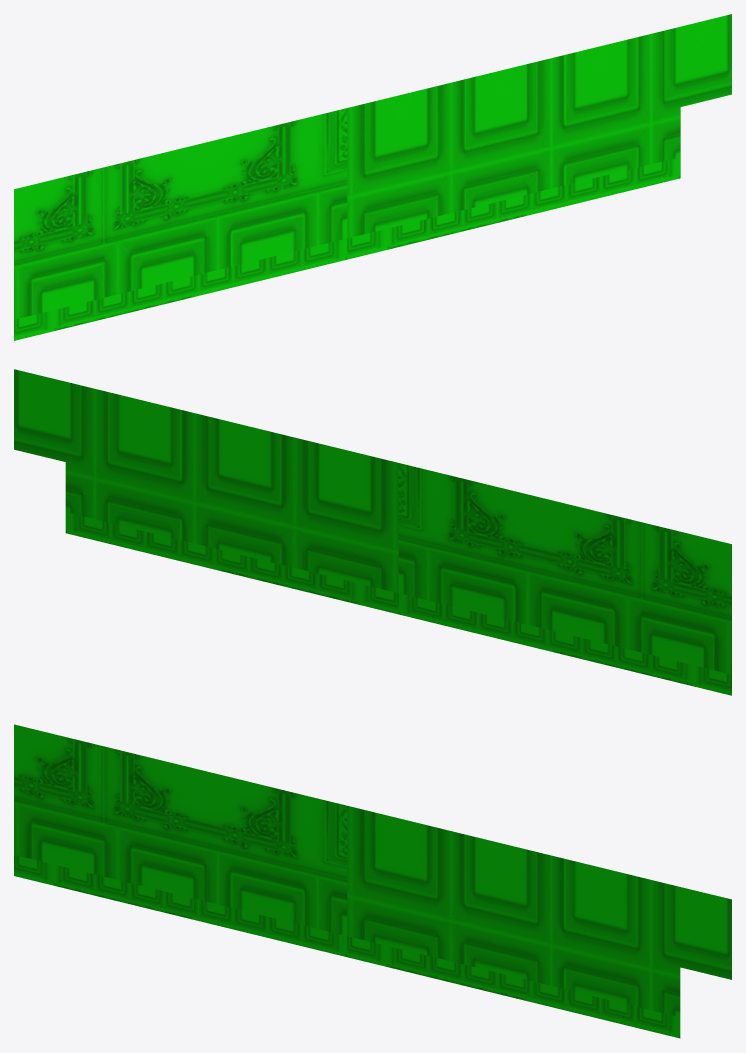
File: 2층 복도벽.fbx
3 renders of one model, top to bottom at view 1: azimuth 30°, elevation 25°; view 2: azimuth 150°, elevation 25°; view 3: azimuth 330°, elevation 25°, orthographic.
Visible parts, largest first — view 1: 2층 복도 벽 1; view 2: 2층 복도 벽 1; view 3: 2층 복도 벽 1.
Part boxes in pixels (x1,y1,x2,y2): 2층 복도 벽 1: (14, 14, 731, 340); 2층 복도 벽 1: (14, 369, 731, 695); 2층 복도 벽 1: (14, 724, 731, 1038).
Bounding box in the file's own units: 969 × 195 × 0.2936.
